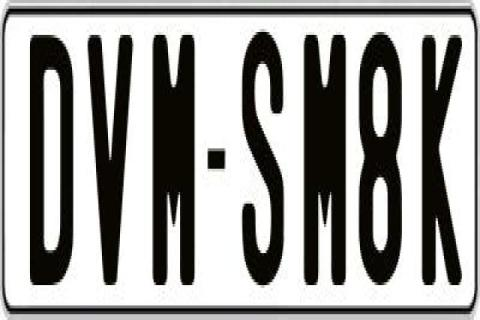0: (358, 27, 404, 280)
D: (29, 35, 75, 297)
K: (422, 26, 464, 291)
M: (300, 35, 350, 288), (148, 29, 198, 279)
S: (240, 29, 284, 288)
V: (86, 26, 134, 294)
